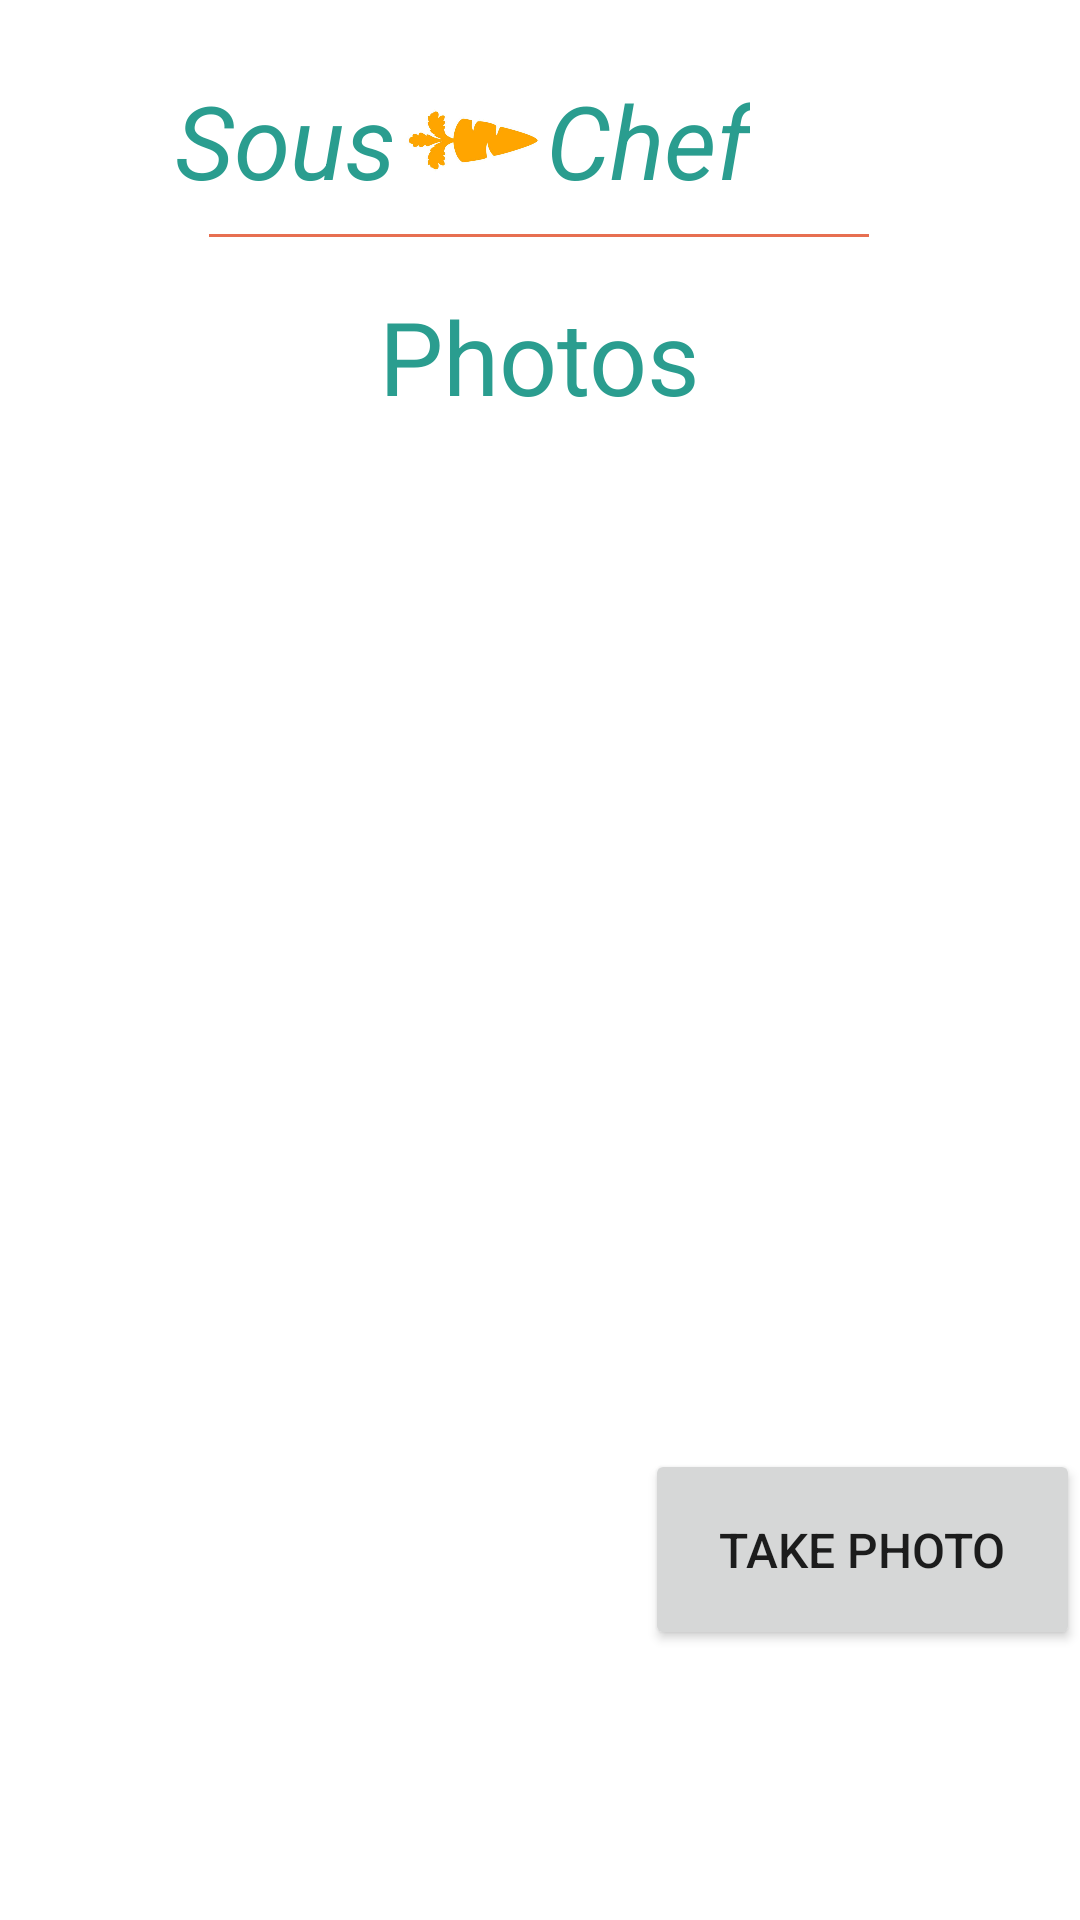

Where to tap for icons on this 1080 x 1920 app screen, as (x,y):
carrot: (473,140)
